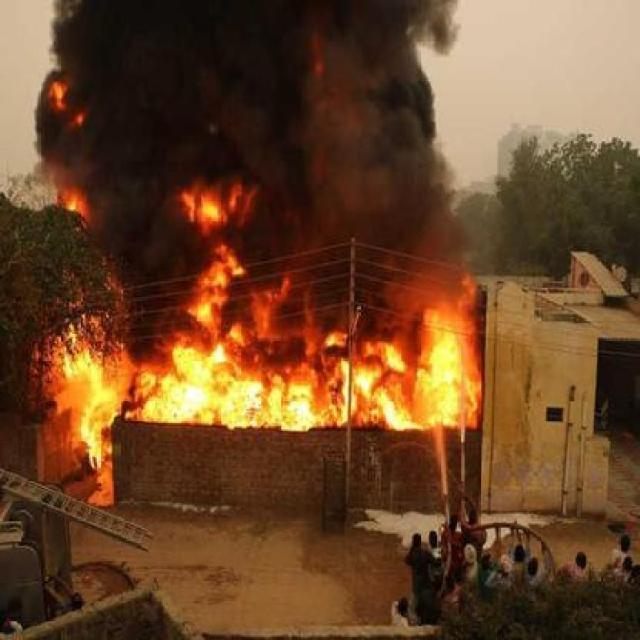Fire: (45, 293, 488, 477)
Smoke: (44, 8, 458, 300)
